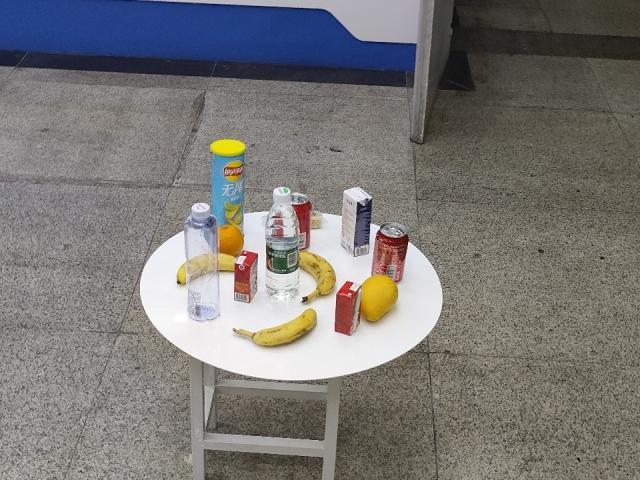Canned_drinks: (378, 225, 407, 277)
bottle: (180, 208, 222, 321), (267, 187, 298, 296)
cylinder: (209, 141, 247, 230)
drink_box: (341, 190, 373, 255), (336, 281, 358, 336), (236, 254, 259, 301)
